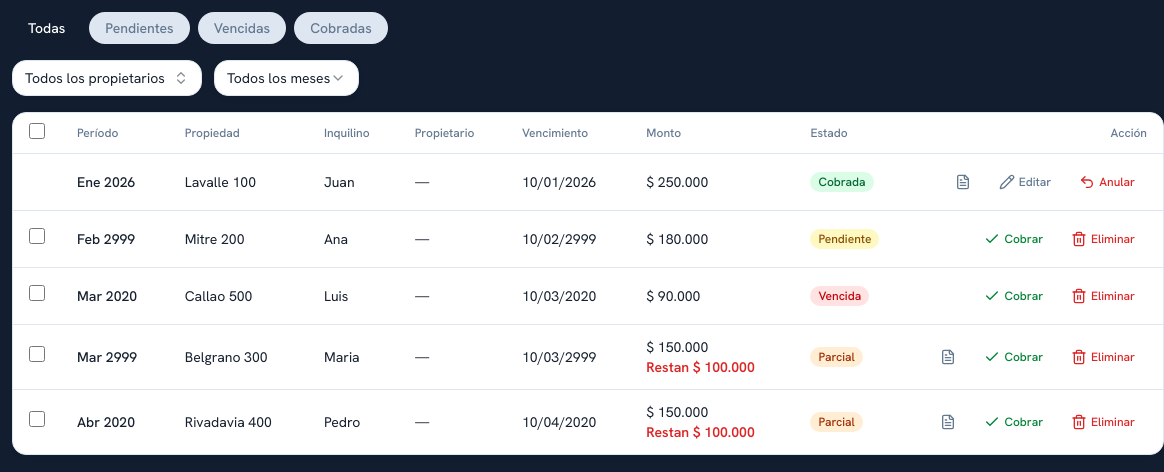
Test: PaymentsList › filters to only overdue installments
Click the button "Vencidas": point(242, 28) [198,12,286,44]
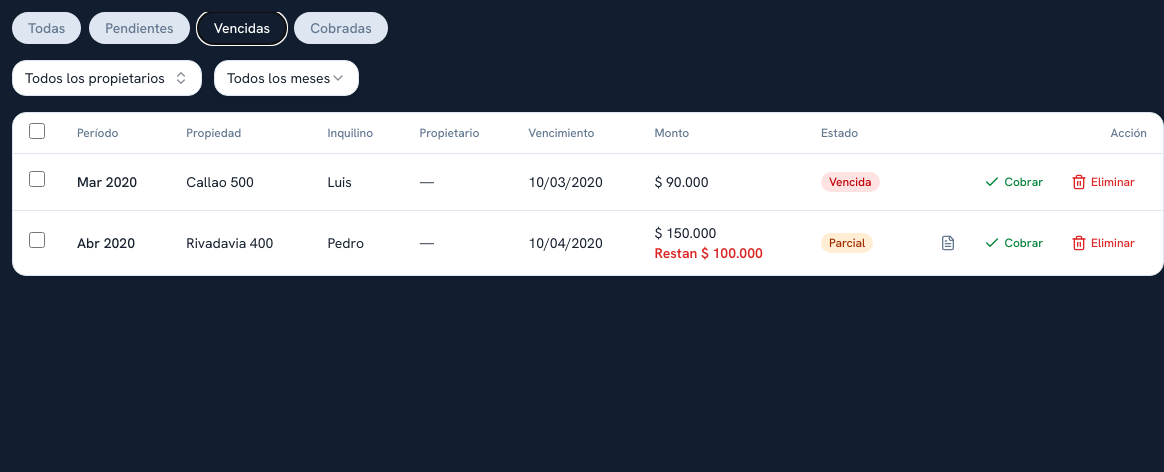
Expected: the text "Lavalle 100" is gone
Expected: the text "Mitre 200" is gone
Expected: the text "Belgrano 300" is gone
